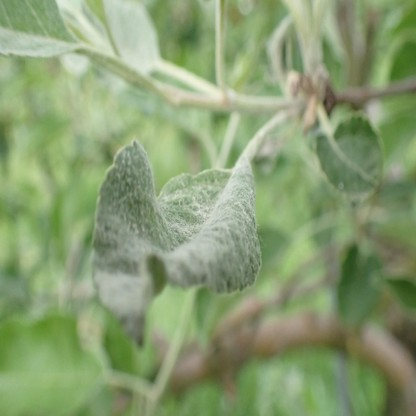powdery_mildew: (92, 138, 261, 348)
